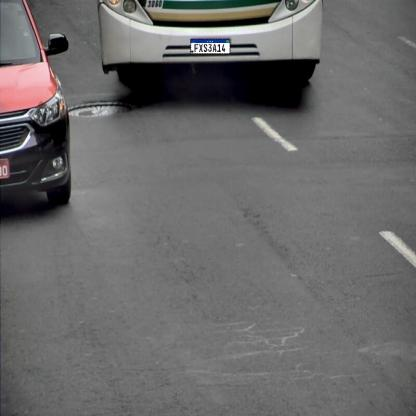PlacaM: (191, 39, 231, 54)
